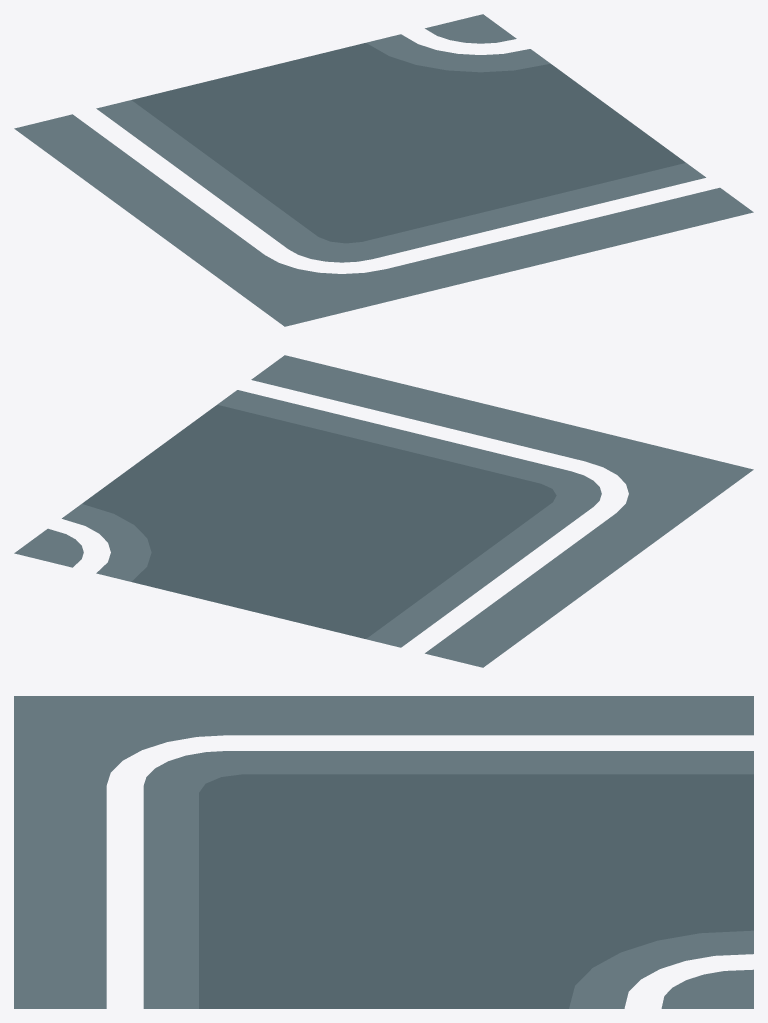
Rendered from Ceiling_type_C_041.glb.
3 renders of one model, top to bottom at view 1: azimuth 30°, elevation 25°; view 2: azimuth 150°, elevation 25°; view 3: azimuth 270°, elevation 25°, orthographic. The views are drawn at different scales.
Visible parts, largest first — view 1: Ceiling_type_C_041; view 2: Ceiling_type_C_041; view 3: Ceiling_type_C_041.
Boxes of the visible parts, <box> form: Ceiling_type_C_041: <box>14,14,753,326</box>; Ceiling_type_C_041: <box>14,355,753,667</box>; Ceiling_type_C_041: <box>14,696,753,1008</box>.
Size of the model in its own units: 4 by 0.012 by 4.
Materials: 2 (2 with a texture image).
